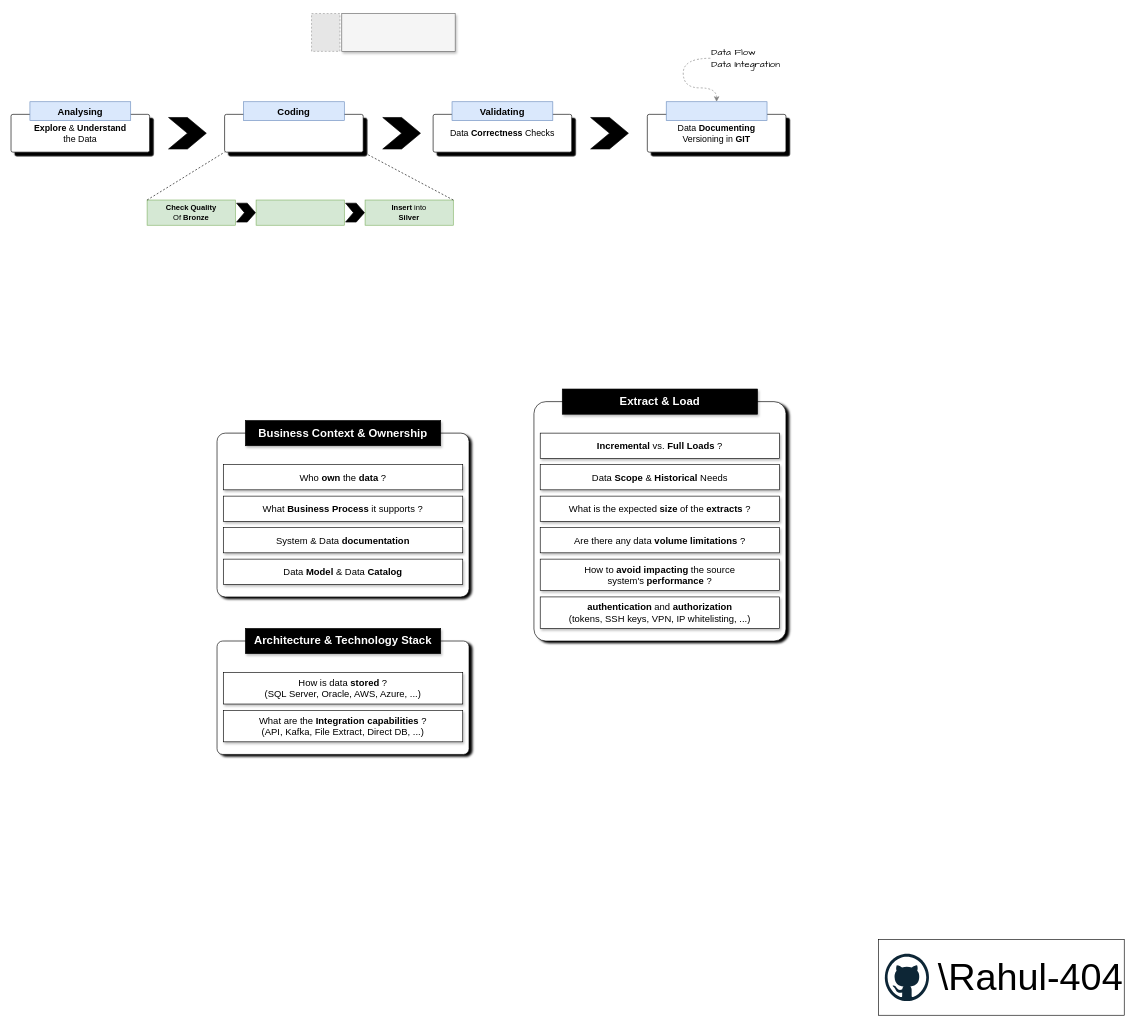
Image size: 1135x1026. Some labels were removed from this diagram. Grey dashed boxes stand in for pictures. The shapes that lost their labels are listed below. From the top down, each one's centre as x and y in pixels, then its label:
[399,33]: Silver Layer
[716,111]: Docs & Version
[295,135]: Data Cleansing
[299,212]: Write Data Transformation
